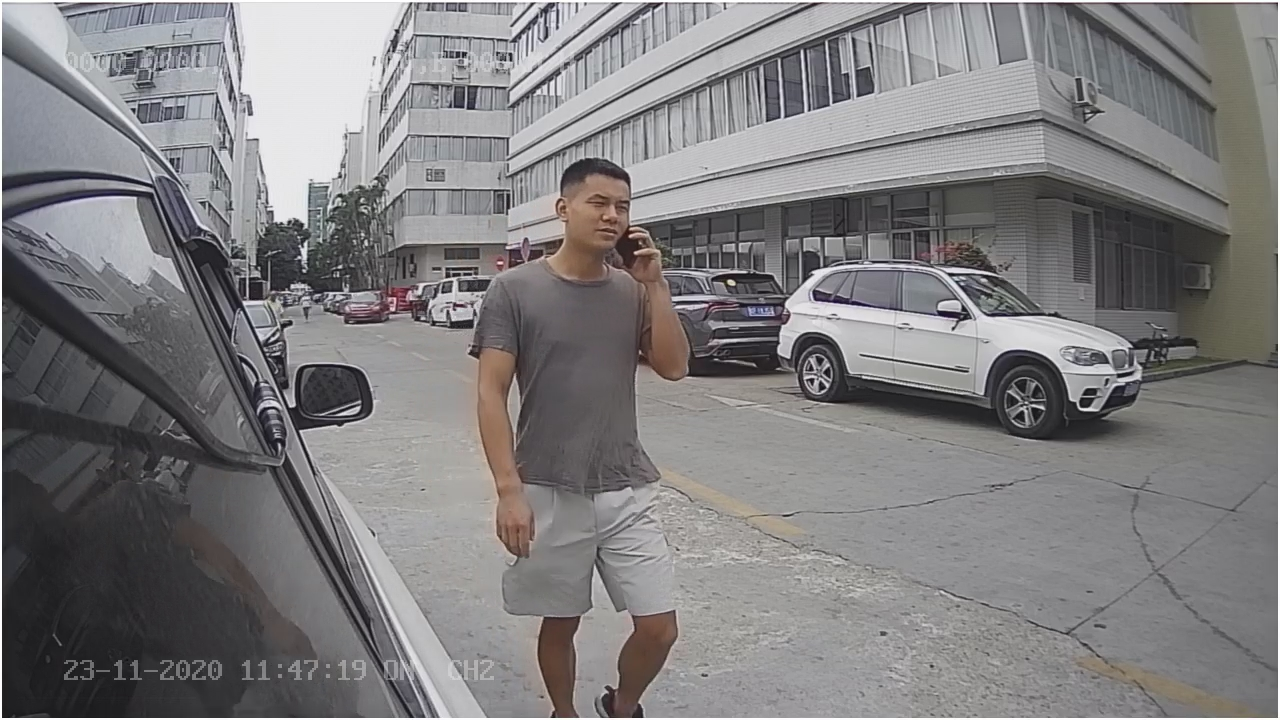person: (468, 149, 700, 562)
